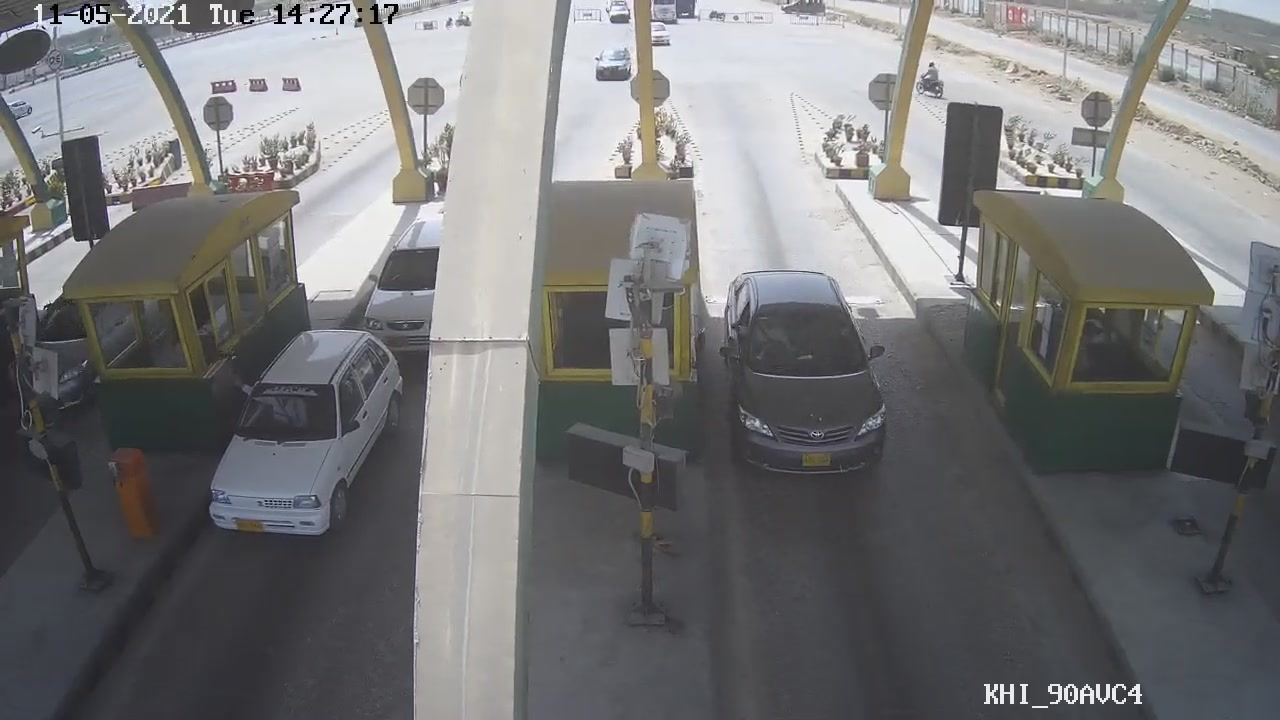F1: (711, 259, 903, 471)
